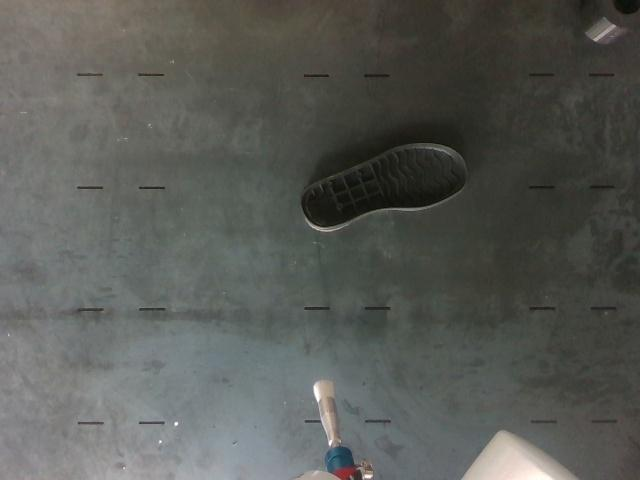shoes: (301, 145, 465, 228)
